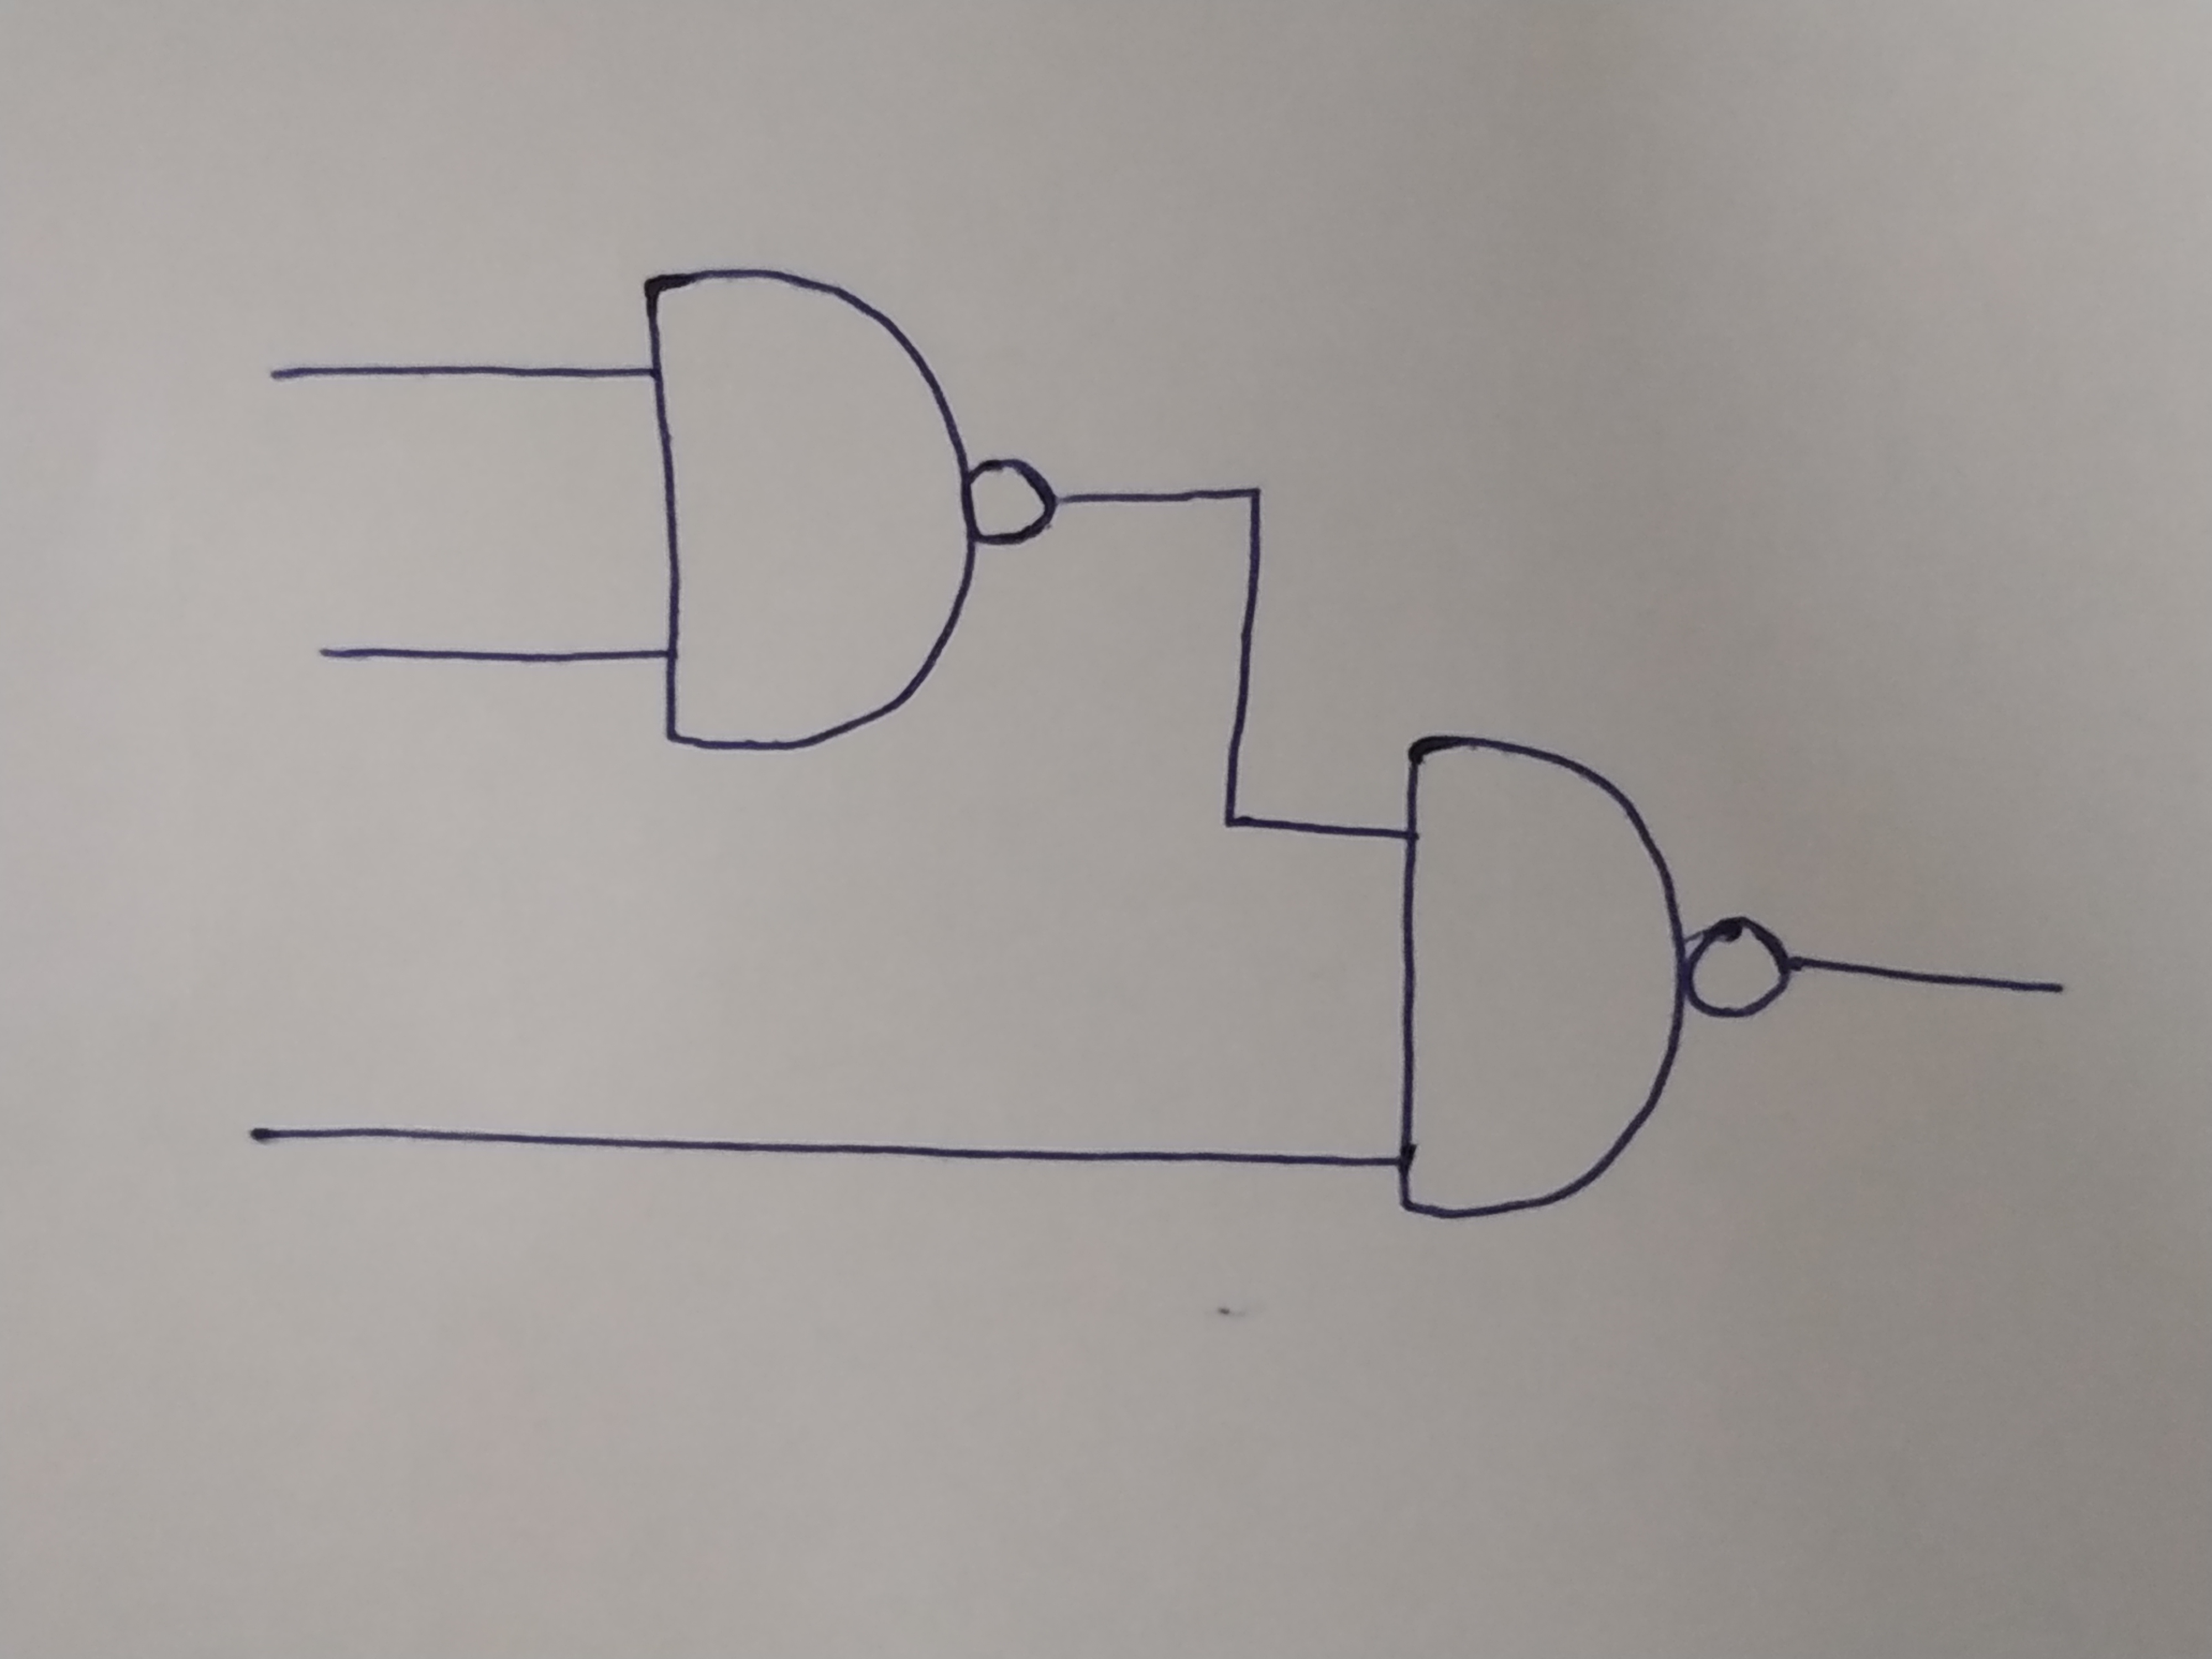and: (639, 263, 968, 756), (1402, 732, 1674, 1218)
not: (1683, 913, 1791, 1025), (974, 457, 1057, 540)
